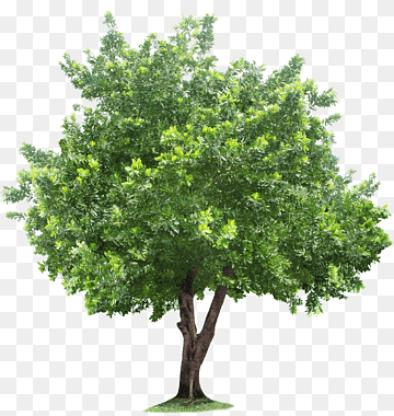tree: (12, 3, 394, 410)
